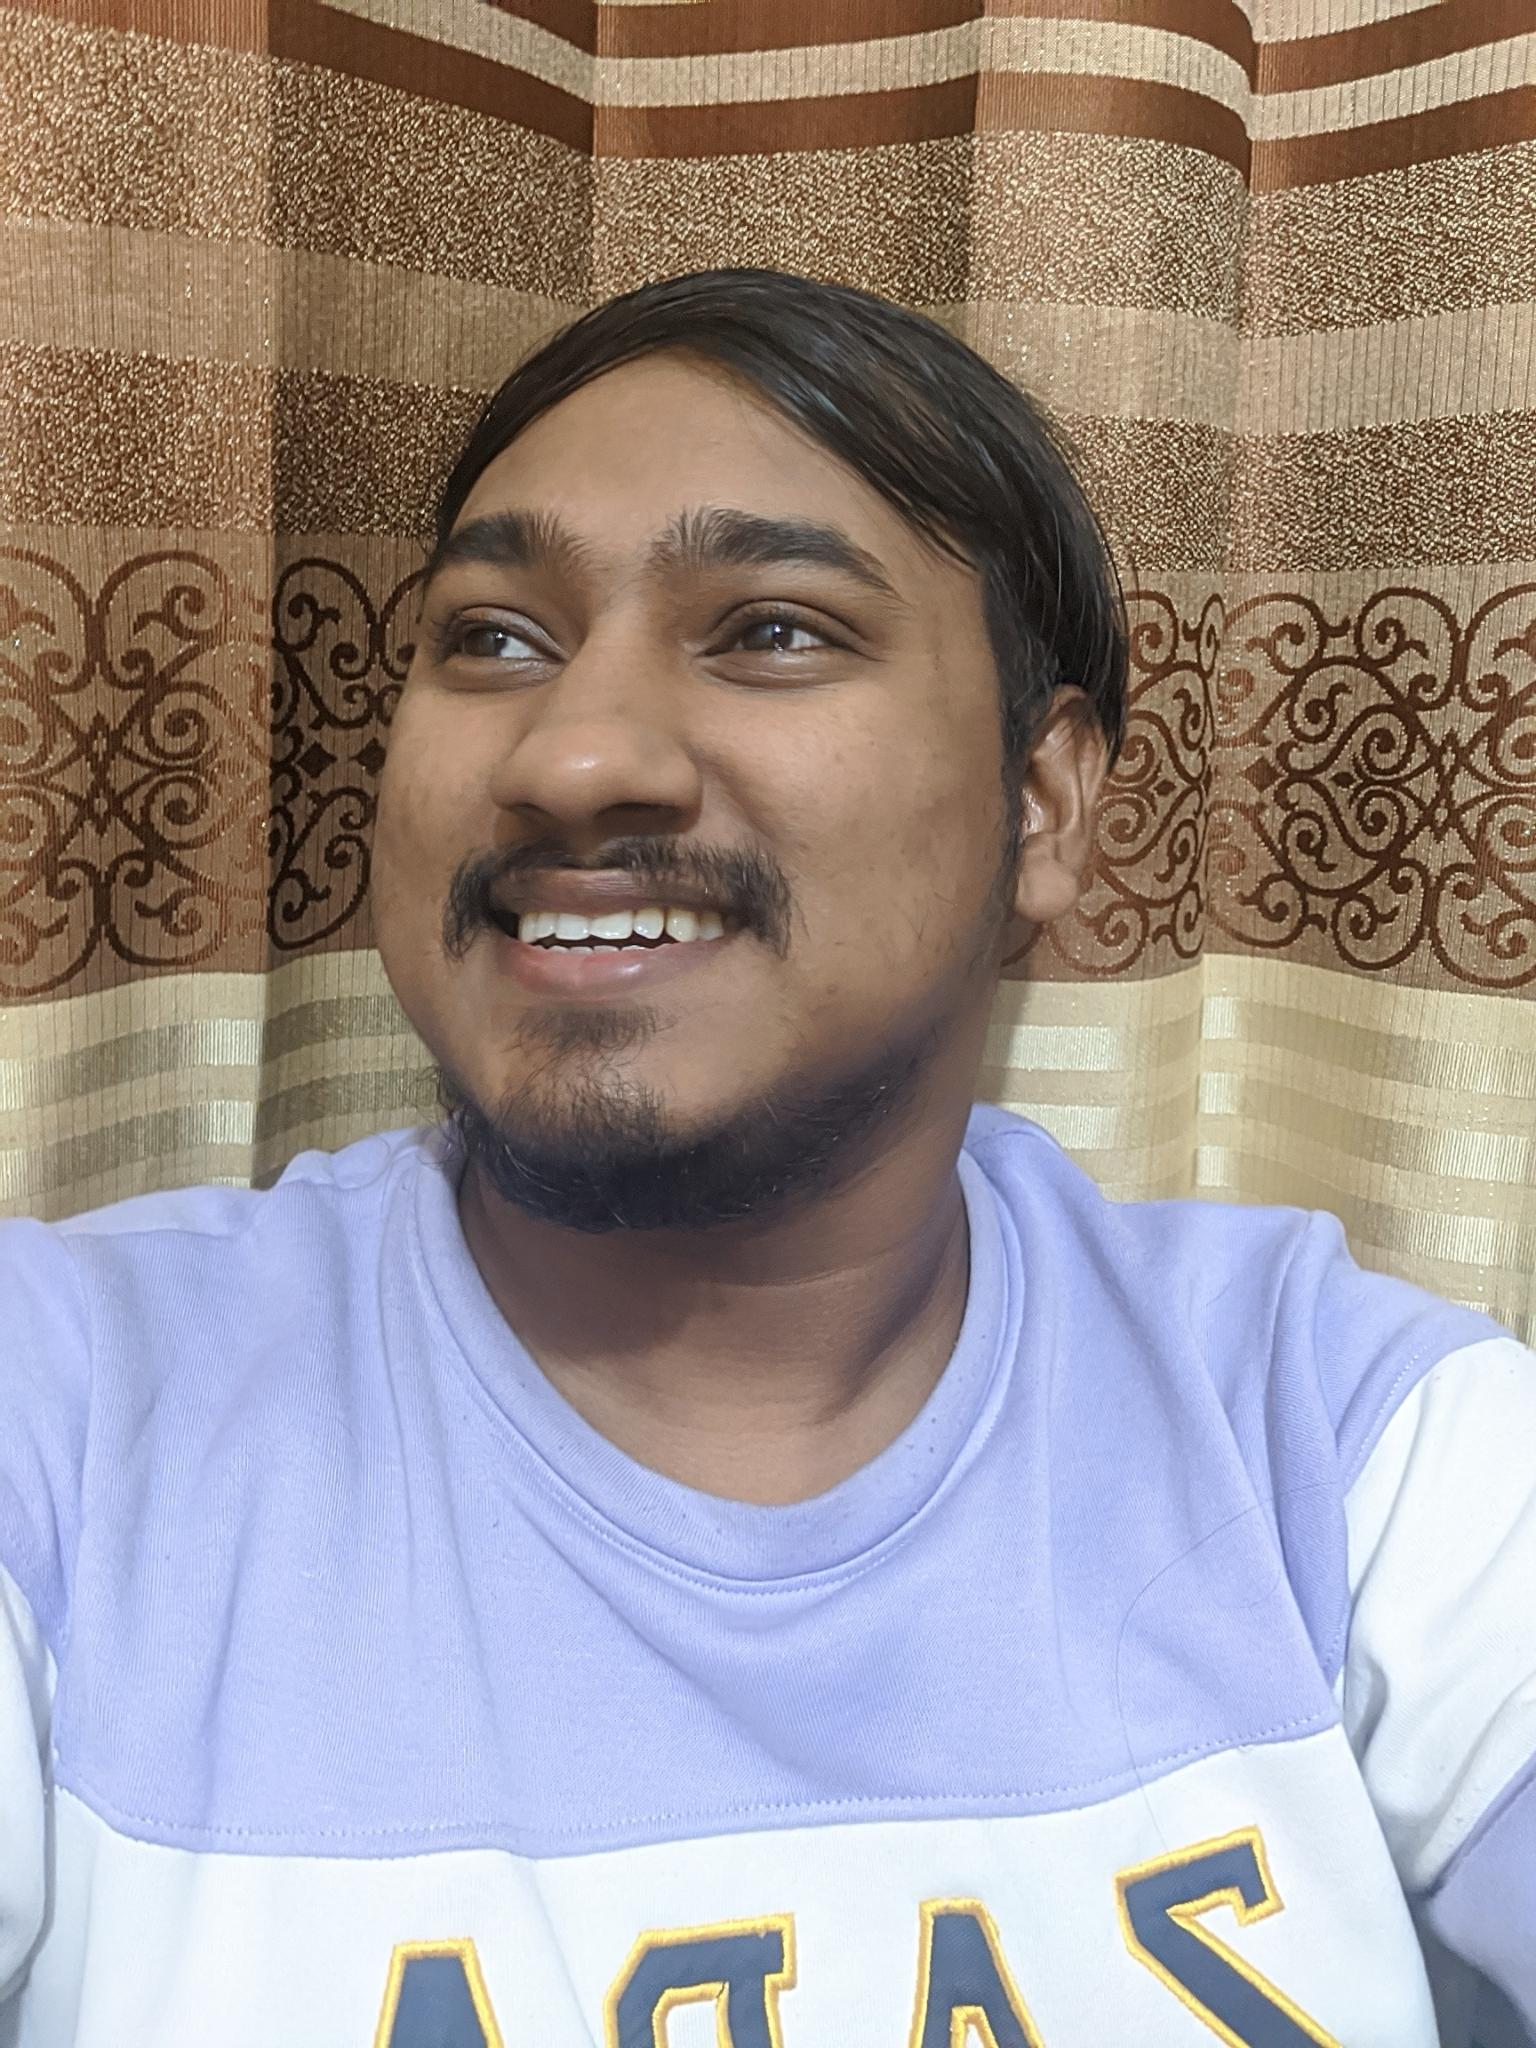Happy: (369, 434, 970, 1184)
